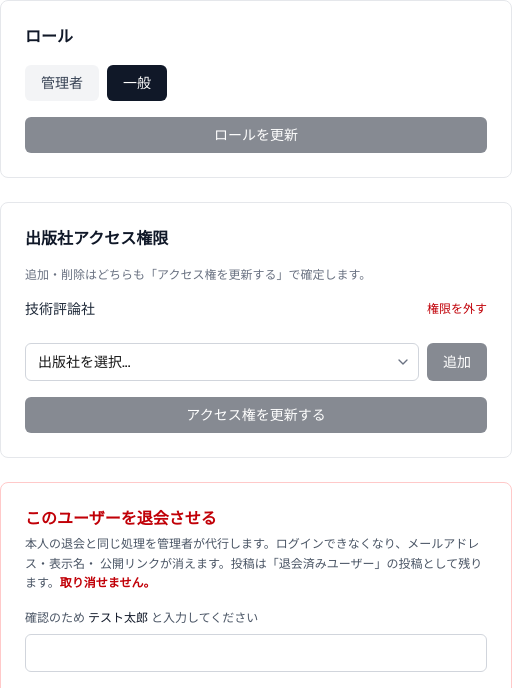
Scenario: AdminUserEditor › 出版社アクセスの削除 › 印は「外すのをやめる」で戻せる（確定していないのだから戻せるべき）
The image size is (529, 688).
Click the button "権限を外す" at (457, 309), box [427,301,487,317]
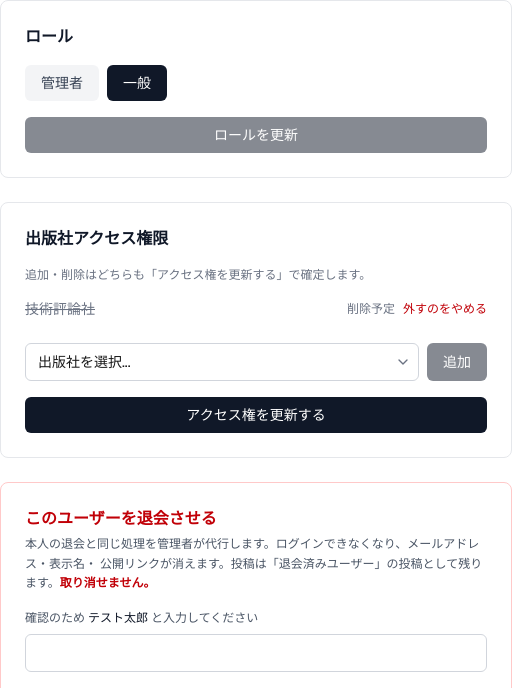
Click the button "外すのをやめる" at (445, 309), box [403,301,487,317]
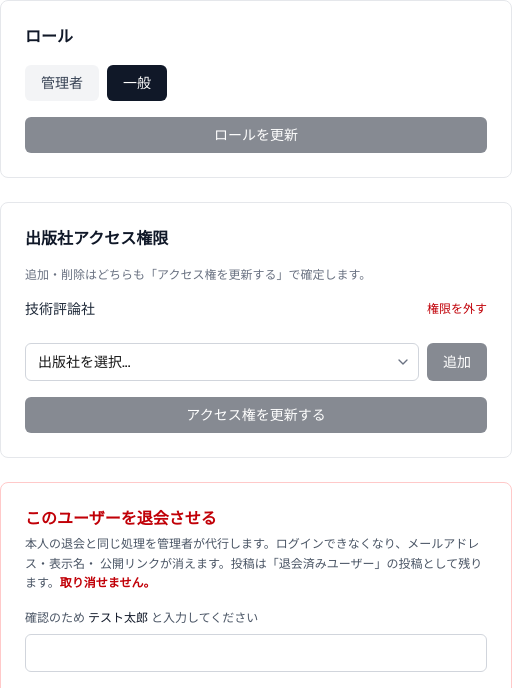
expect the text "削除予定" is gone: met
